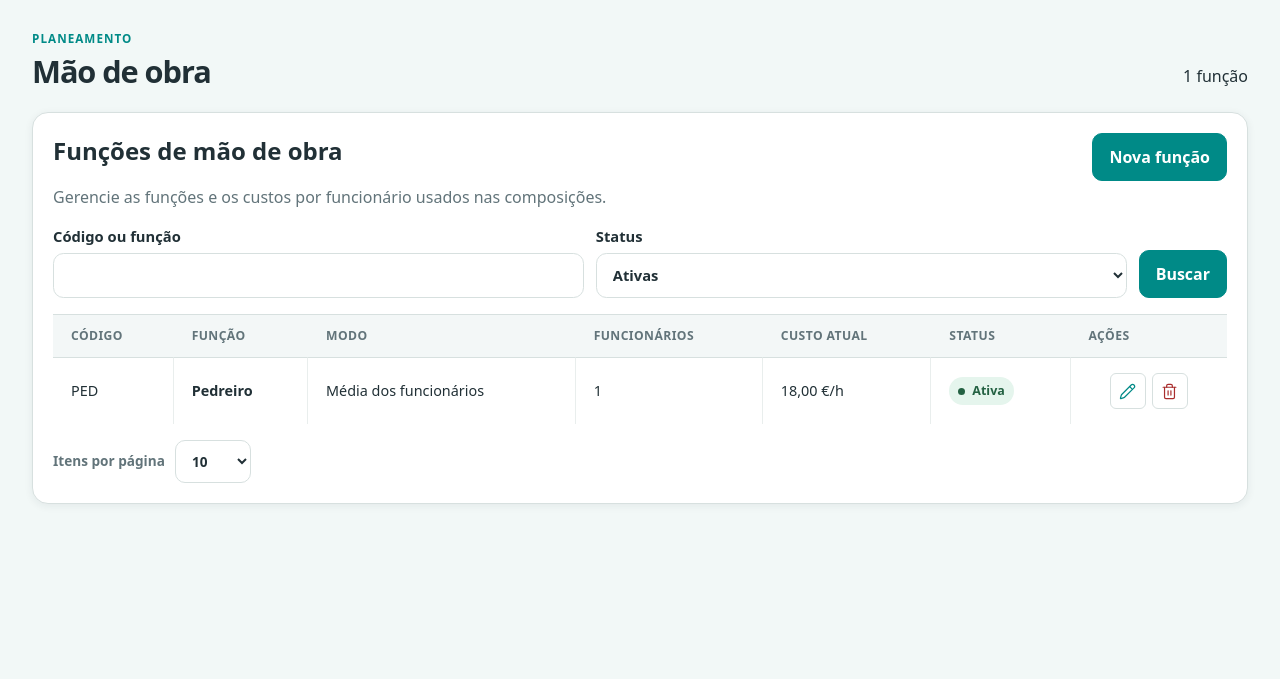
Scenario: shows only the labor role list and keeps cost tabs inside the dialog
Expected: the table named "Funções de mão de obra" is shown, left=53, top=315, right=1227, bottom=424
Click the button "Nova função". click: point(1160, 157)
box: left=1092, top=133, right=1227, bottom=181
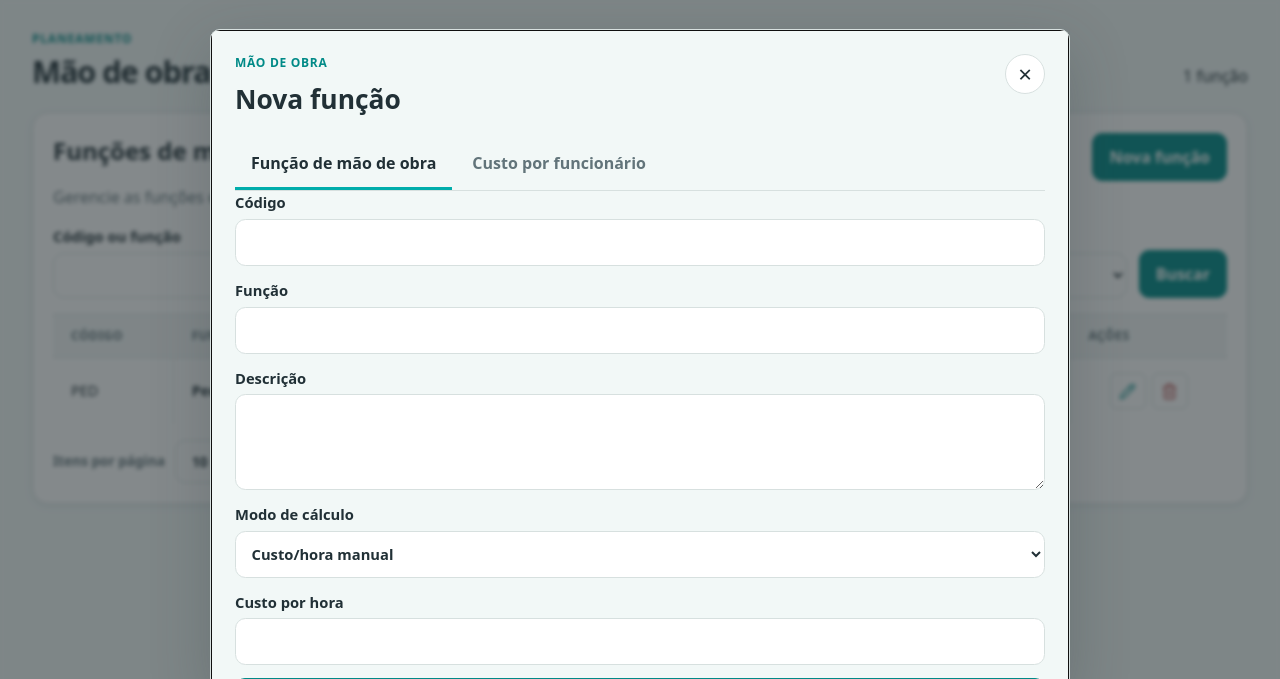
Expected: the tab "Custo por funcionário" is enabled, left=456, top=139, right=662, bottom=190
